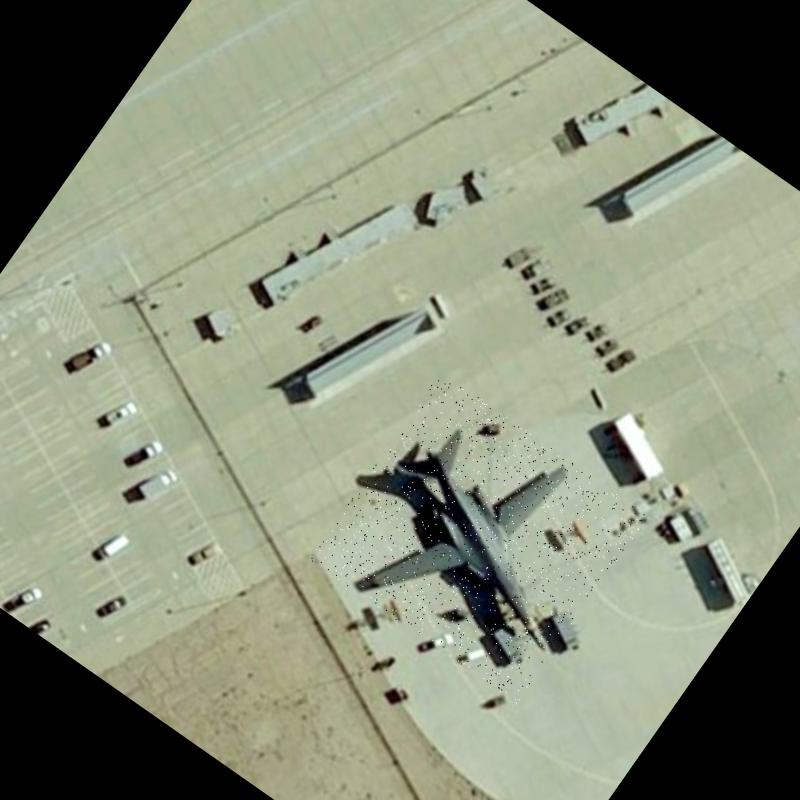A10: (309, 371, 648, 705)
